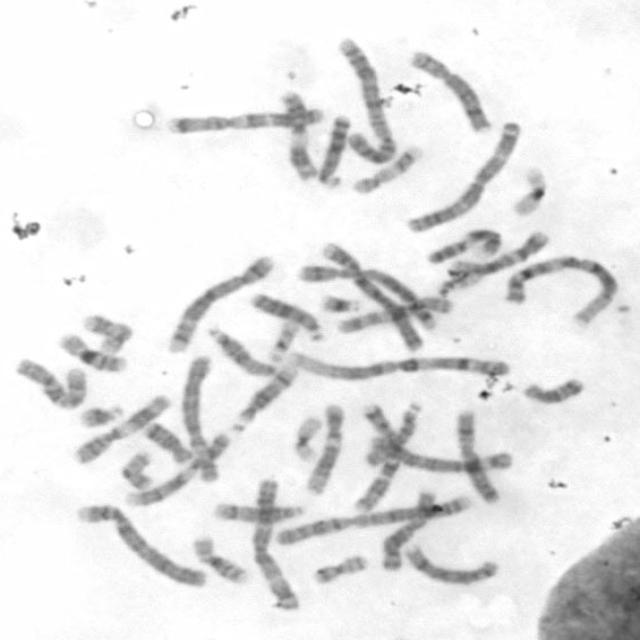A1: (503, 256, 623, 326), (285, 349, 511, 383)
A2: (272, 493, 469, 547), (336, 36, 396, 164)
A3: (405, 118, 520, 234), (250, 476, 302, 612)
B4: (320, 239, 428, 353), (73, 502, 208, 590)
B5: (168, 253, 275, 353), (296, 261, 440, 333)
C10: (332, 295, 453, 334), (15, 356, 88, 409)
C11: (69, 394, 172, 469), (278, 88, 320, 183)
C12: (448, 230, 550, 276), (302, 402, 344, 498)
C6: (369, 434, 518, 474), (179, 354, 221, 484)
C7: (348, 400, 402, 514), (164, 105, 324, 135)
C8: (408, 49, 494, 133), (402, 544, 501, 586)
C9: (124, 432, 234, 508), (421, 227, 504, 265)
D13: (248, 291, 326, 342), (317, 112, 352, 186)
D14: (238, 362, 300, 422), (211, 500, 309, 522)
D15: (362, 399, 422, 467), (206, 324, 276, 377)
E16: (54, 329, 130, 374), (190, 533, 250, 585)
E17: (350, 143, 421, 195), (79, 310, 135, 356)
E18: (142, 418, 194, 463), (518, 377, 590, 406)
F19: (508, 165, 550, 220), (290, 413, 325, 466)
F20: (308, 553, 368, 586), (118, 448, 154, 490)
G21: (74, 398, 126, 430), (320, 292, 362, 315)
G22: (436, 269, 485, 298), (267, 318, 299, 362)
X: (377, 488, 440, 572), (453, 406, 504, 504)
